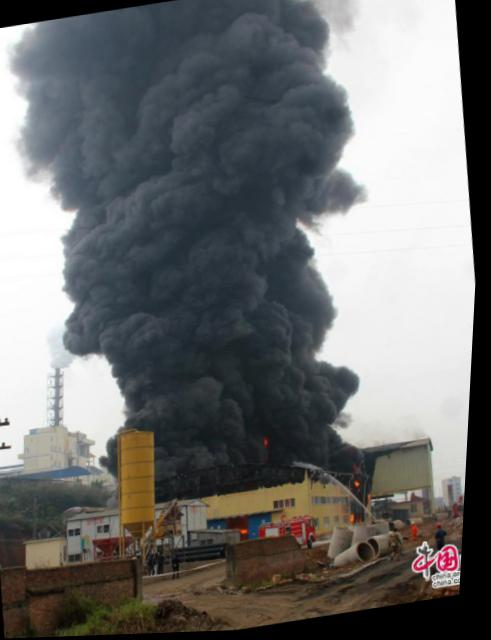smoke: (108, 0, 340, 447), (39, 16, 157, 341), (295, 73, 347, 185), (247, 430, 317, 462)
